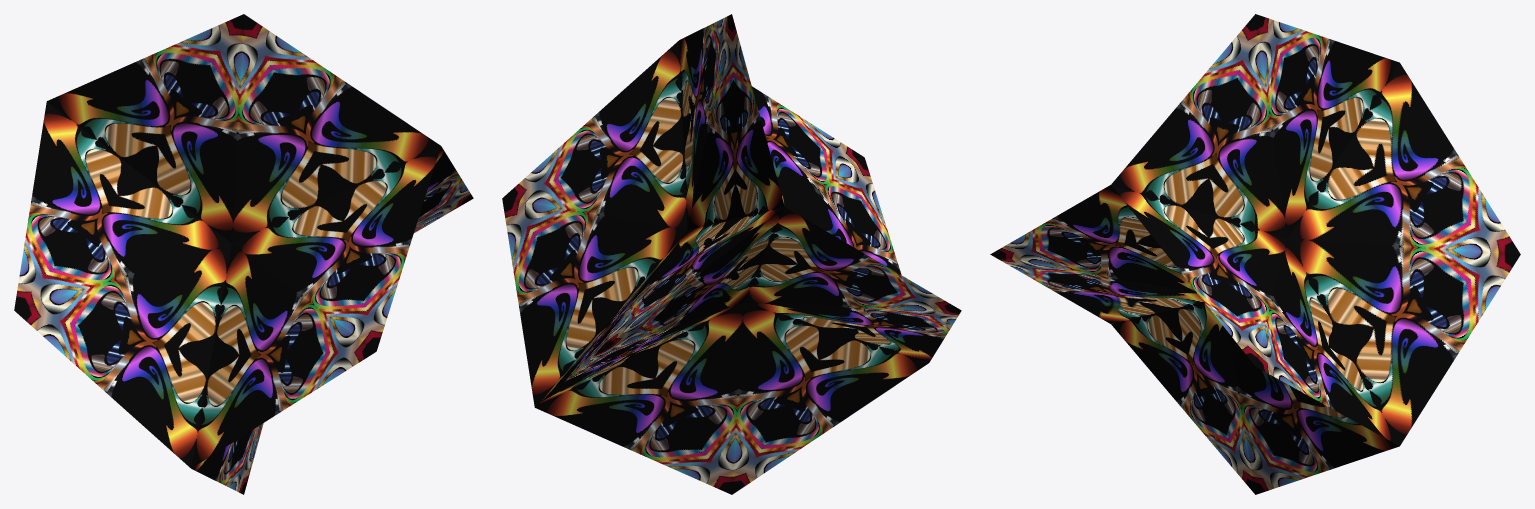
File: Mobius24_12.obj
The picture shows the model from 3 angles, left to right: view 1: azimuth 30°, elevation 25°; view 2: azimuth 150°, elevation 25°; view 3: azimuth 270°, elevation 25°; orthographic projection.
Size of the model in its own units: 2.24 by 2.24 by 2.24.
1 material, 1 textured.
